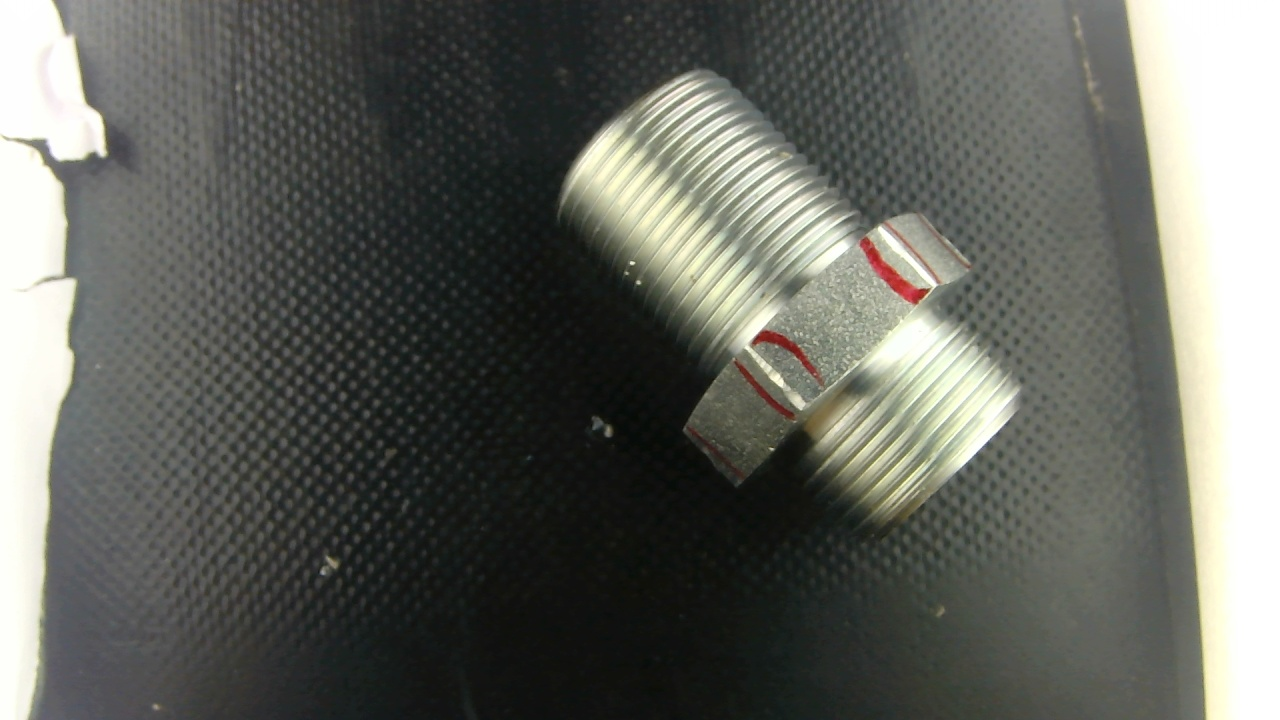Hex_damage: (744, 344, 810, 419)
